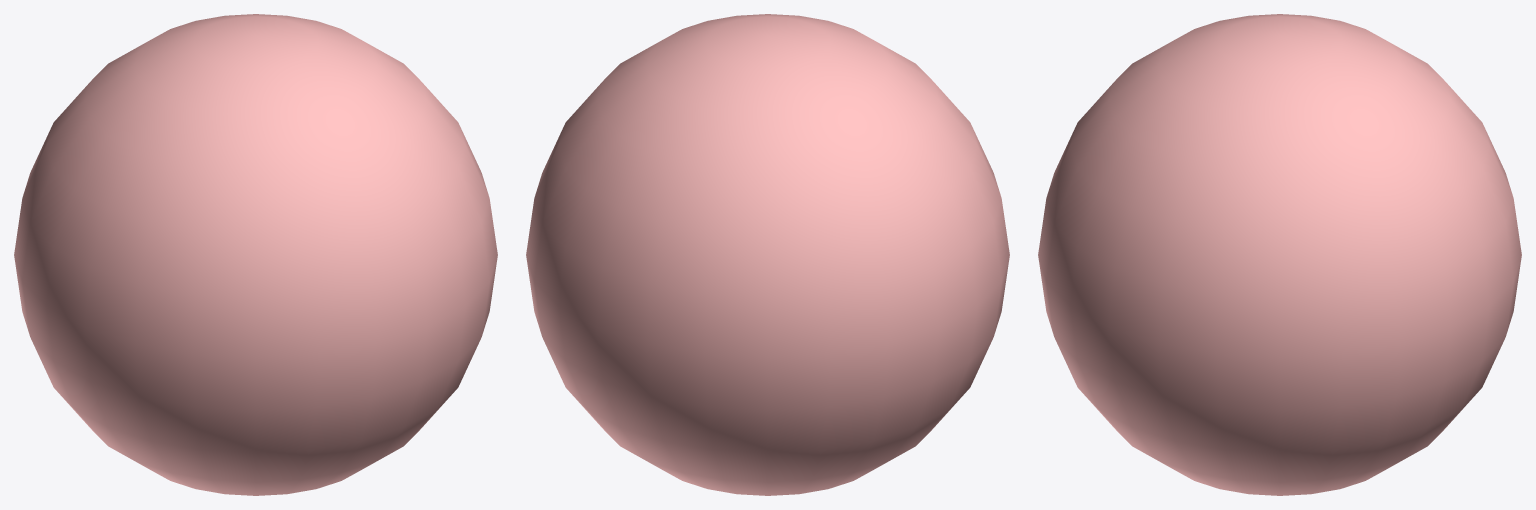
3 renders of one model, left to right at view 1: azimuth 30°, elevation 25°; view 2: azimuth 150°, elevation 25°; view 3: azimuth 270°, elevation 25°, orthographic.
Parts seen in each view (by area): view 1: Sphère; view 2: Sphère; view 3: Sphère.
Part boxes in pixels (x1,y1,x2,y2): Sphère: (14, 14, 497, 495); Sphère: (526, 14, 1009, 495); Sphère: (1038, 14, 1521, 495).
Size of the model in its own units: 0.72 by 0.72 by 0.72.
